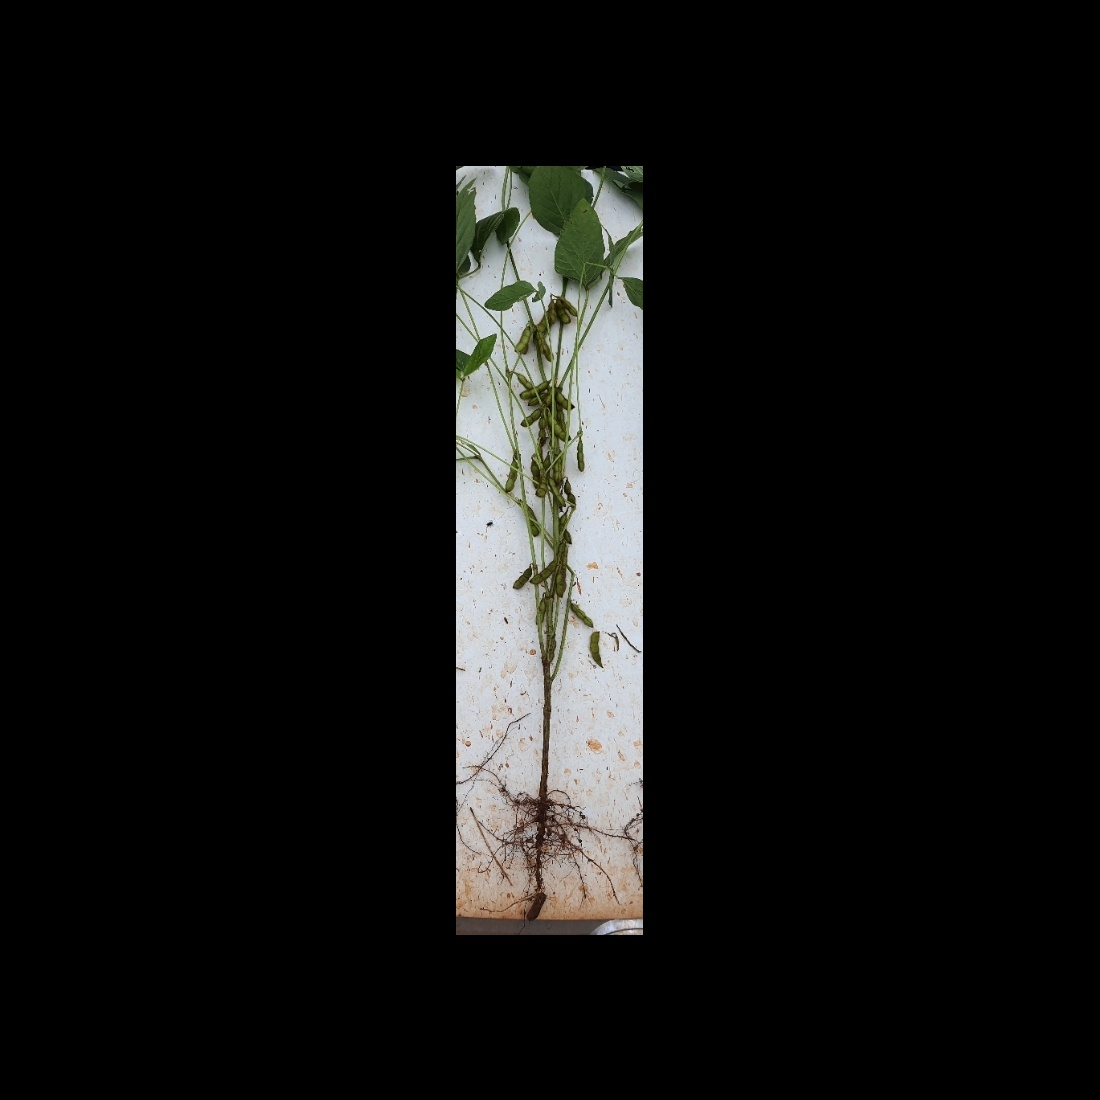pod: (501, 448, 522, 496), (544, 473, 568, 511), (586, 630, 607, 669), (509, 564, 538, 591), (530, 562, 560, 586), (569, 439, 589, 475), (570, 600, 596, 628), (513, 321, 533, 357), (517, 382, 553, 401), (518, 405, 545, 429), (551, 297, 572, 327)
soy: (463, 177, 640, 858)
